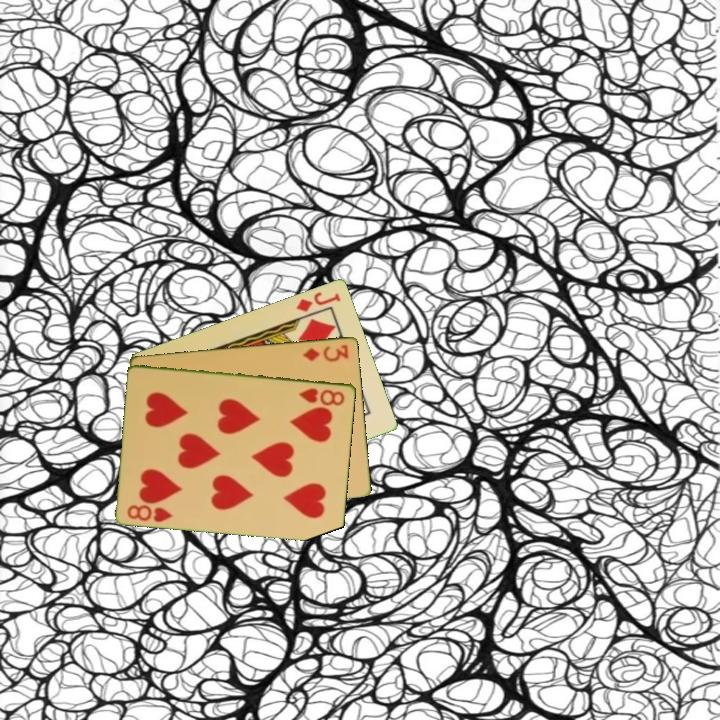3d: (300, 341, 352, 364)
8h: (296, 384, 348, 408), (124, 501, 175, 525)
Jd: (293, 288, 344, 315)
